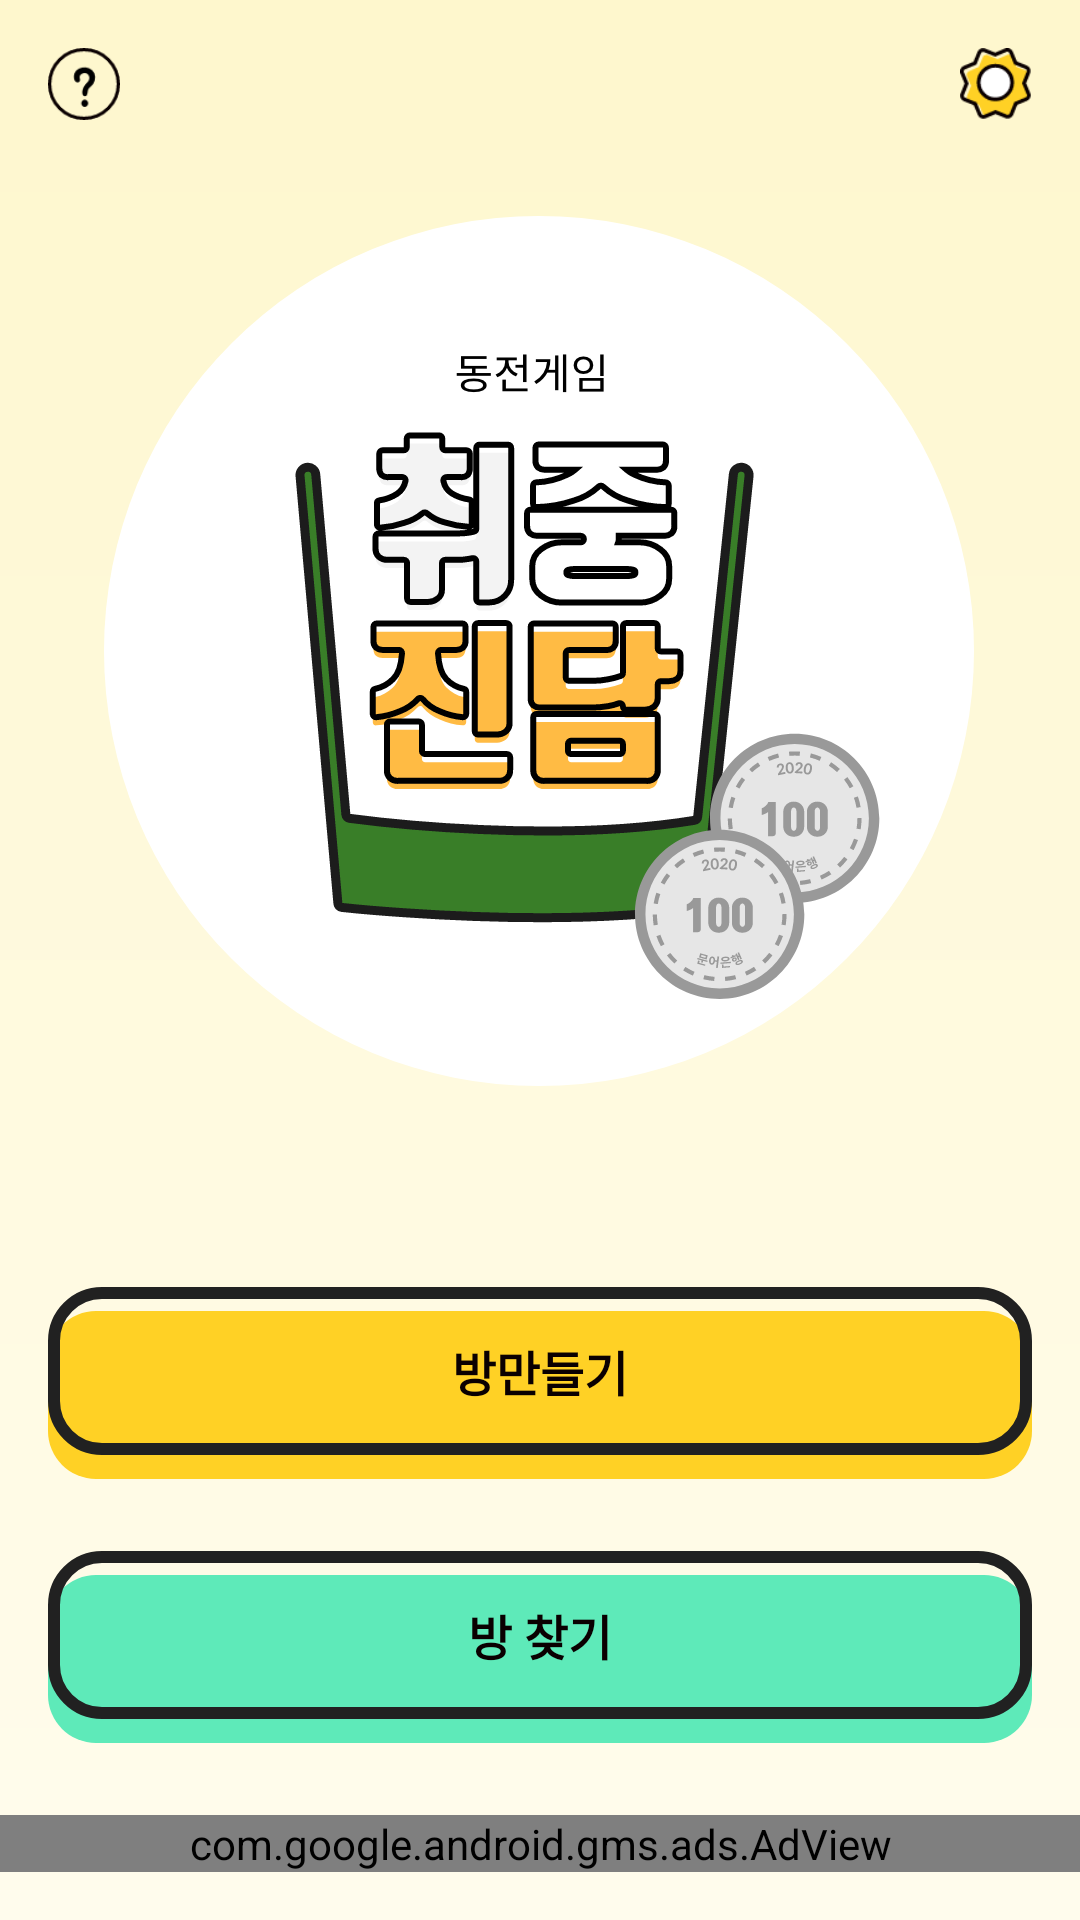

Icons on this 1080*1920 Android screen, each with its box as (x1,y1,x2,y2):
question: (48,48,120,120)
setting: (960,48,1031,119)
